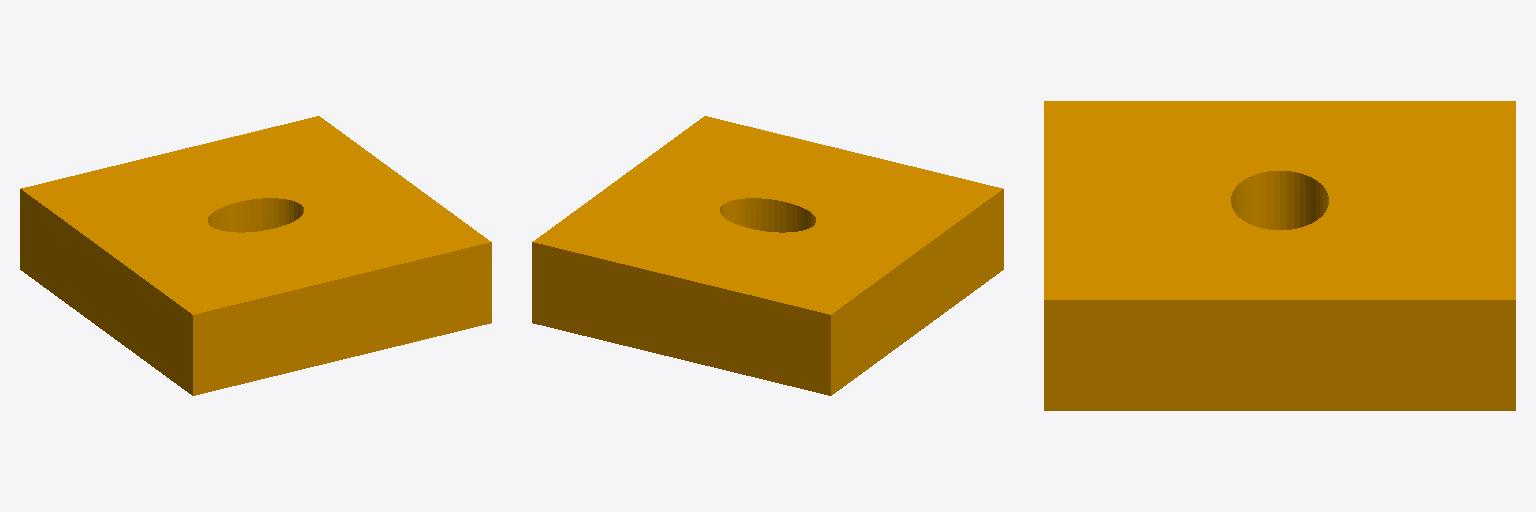
robot.urdf — socket_ellipse:
<?xml version='1.0' encoding='utf-8'?>
<robot name="socket_ellipse">
  <link name="body">
    <inertial>
      <origin xyz="-5.443598407687637e-18 -2.823443157514335e-19 0.025763539159348193" />
      <mass value="0.6" />
      <inertia ixx="0.0022127270355642567" iyy="0.0022099839322426325" izz="0.004149729702866583" ixy="-2.202285662861181e-19" ixz="-5.272859755453196e-20" iyz="1.7009648321010986e-20" />
    </inertial>
    <collision>
      <geometry>
        <mesh filename="part_00.obj" />
      </geometry>
    </collision>
    <collision>
      <geometry>
        <mesh filename="part_01.obj" />
      </geometry>
    </collision>
    <collision>
      <geometry>
        <mesh filename="part_02.obj" />
      </geometry>
    </collision>
    <collision>
      <geometry>
        <mesh filename="part_03.obj" />
      </geometry>
    </collision>
    <collision>
      <geometry>
        <mesh filename="part_04.obj" />
      </geometry>
    </collision>
    <collision>
      <geometry>
        <mesh filename="part_05.obj" />
      </geometry>
    </collision>
    <collision>
      <geometry>
        <mesh filename="part_06.obj" />
      </geometry>
    </collision>
    <collision>
      <geometry>
        <mesh filename="part_07.obj" />
      </geometry>
    </collision>
    <collision>
      <geometry>
        <mesh filename="part_08.obj" />
      </geometry>
    </collision>
    <collision>
      <geometry>
        <mesh filename="part_09.obj" />
      </geometry>
    </collision>
    <collision>
      <geometry>
        <mesh filename="part_10.obj" />
      </geometry>
    </collision>
    <collision>
      <geometry>
        <mesh filename="part_11.obj" />
      </geometry>
    </collision>
    <collision>
      <geometry>
        <mesh filename="part_12.obj" />
      </geometry>
    </collision>
    <collision>
      <geometry>
        <mesh filename="part_13.obj" />
      </geometry>
    </collision>
    <collision>
      <geometry>
        <mesh filename="part_14.obj" />
      </geometry>
    </collision>
    <collision>
      <geometry>
        <mesh filename="part_15.obj" />
      </geometry>
    </collision>
    <collision>
      <geometry>
        <mesh filename="part_16.obj" />
      </geometry>
    </collision>
    <collision>
      <geometry>
        <mesh filename="part_17.obj" />
      </geometry>
    </collision>
    <collision>
      <geometry>
        <mesh filename="part_18.obj" />
      </geometry>
    </collision>
    <collision>
      <geometry>
        <mesh filename="part_19.obj" />
      </geometry>
    </collision>
    <collision>
      <geometry>
        <mesh filename="part_20.obj" />
      </geometry>
    </collision>
    <collision>
      <geometry>
        <mesh filename="part_21.obj" />
      </geometry>
    </collision>
    <collision>
      <geometry>
        <mesh filename="part_22.obj" />
      </geometry>
    </collision>
    <collision>
      <geometry>
        <mesh filename="part_23.obj" />
      </geometry>
    </collision>
    <collision>
      <geometry>
        <mesh filename="part_24.obj" />
      </geometry>
    </collision>
    <collision>
      <geometry>
        <mesh filename="part_25.obj" />
      </geometry>
    </collision>
    <collision>
      <geometry>
        <mesh filename="part_26.obj" />
      </geometry>
    </collision>
    <collision>
      <geometry>
        <mesh filename="part_27.obj" />
      </geometry>
    </collision>
    <collision>
      <geometry>
        <mesh filename="part_28.obj" />
      </geometry>
    </collision>
    <collision>
      <geometry>
        <mesh filename="part_29.obj" />
      </geometry>
    </collision>
    <collision>
      <geometry>
        <mesh filename="part_30.obj" />
      </geometry>
    </collision>
    <collision>
      <geometry>
        <mesh filename="part_31.obj" />
      </geometry>
    </collision>
    <collision>
      <geometry>
        <mesh filename="part_32.obj" />
      </geometry>
    </collision>
    <collision>
      <geometry>
        <mesh filename="part_33.obj" />
      </geometry>
    </collision>
    <collision>
      <geometry>
        <mesh filename="part_34.obj" />
      </geometry>
    </collision>
    <collision>
      <geometry>
        <mesh filename="part_35.obj" />
      </geometry>
    </collision>
    <collision>
      <geometry>
        <mesh filename="part_36.obj" />
      </geometry>
    </collision>
    <collision>
      <geometry>
        <mesh filename="part_37.obj" />
      </geometry>
    </collision>
    <collision>
      <geometry>
        <mesh filename="part_38.obj" />
      </geometry>
    </collision>
    <collision>
      <geometry>
        <mesh filename="part_39.obj" />
      </geometry>
    </collision>
    <collision>
      <geometry>
        <mesh filename="part_40.obj" />
      </geometry>
    </collision>
    <collision>
      <geometry>
        <mesh filename="part_41.obj" />
      </geometry>
    </collision>
    <collision>
      <geometry>
        <mesh filename="part_42.obj" />
      </geometry>
    </collision>
    <collision>
      <geometry>
        <mesh filename="part_43.obj" />
      </geometry>
    </collision>
    <collision>
      <geometry>
        <mesh filename="part_44.obj" />
      </geometry>
    </collision>
    <collision>
      <geometry>
        <mesh filename="part_45.obj" />
      </geometry>
    </collision>
    <collision>
      <geometry>
        <mesh filename="part_46.obj" />
      </geometry>
    </collision>
    <collision>
      <geometry>
        <mesh filename="part_47.obj" />
      </geometry>
    </collision>
    <collision>
      <geometry>
        <mesh filename="part_48.obj" />
      </geometry>
    </collision>
    <visual>
      <geometry>
        <mesh filename="visual.obj" />
      </geometry>
    </visual>
  </link>
</robot>

--- What the picture shows (computed from the rendered views, not written in the file) ---
Views: 3 orthographic renders of the robot side by side, from view 1: azimuth 30°, elevation 25°; view 2: azimuth 150°, elevation 25°; view 3: azimuth 270°, elevation 25°.
Model socket_ellipse with 1 links and 0 joints (none), rooted at body, posed every joint at zero.
Visible links, largest first — view 1: body; view 2: body; view 3: body.
Link boxes in pixels (<box>): body: <box>20,116,491,395</box>; body: <box>532,116,1003,395</box>; body: <box>1044,101,1515,410</box>.
Size in the robot's own frame: 0.2 by 0.2 by 0.052 metres.
Meshes: 1 distinct files referenced, 1 mesh visuals loaded (1 OBJ).
